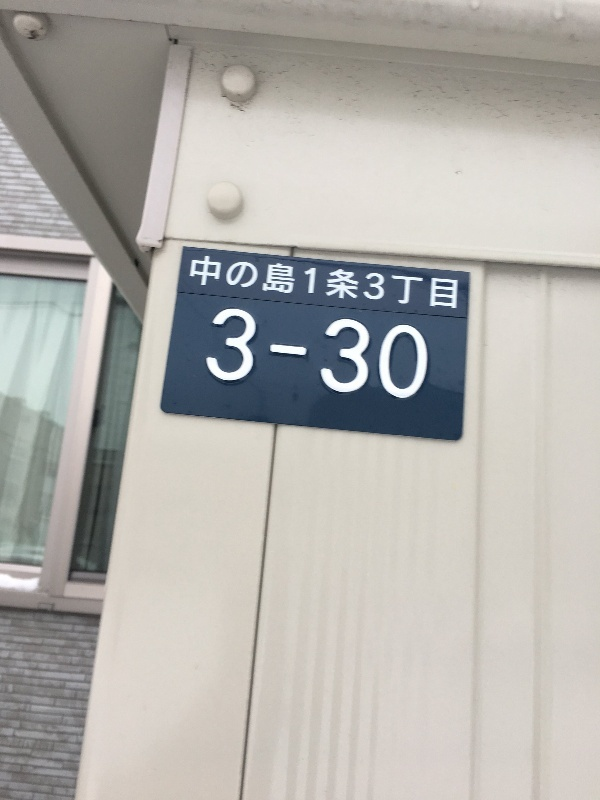text: (225, 304, 240, 403), (241, 304, 256, 403), (257, 304, 272, 403), (273, 304, 288, 403), (289, 304, 304, 403), (305, 304, 320, 403), (321, 304, 336, 403), (337, 304, 352, 403), (353, 304, 368, 403), (369, 304, 384, 403), (385, 304, 400, 403), (401, 304, 416, 403), (417, 304, 430, 403), (193, 255, 208, 314), (209, 255, 224, 314), (225, 255, 240, 314), (241, 255, 256, 314), (257, 255, 272, 314), (273, 255, 288, 314), (289, 255, 304, 314), (305, 255, 320, 314), (321, 255, 336, 314), (337, 255, 352, 314), (353, 255, 368, 314), (369, 255, 384, 314), (385, 255, 400, 314), (401, 255, 416, 314), (417, 255, 432, 314), (433, 255, 448, 314), (216, 304, 224, 403), (449, 255, 459, 314)
